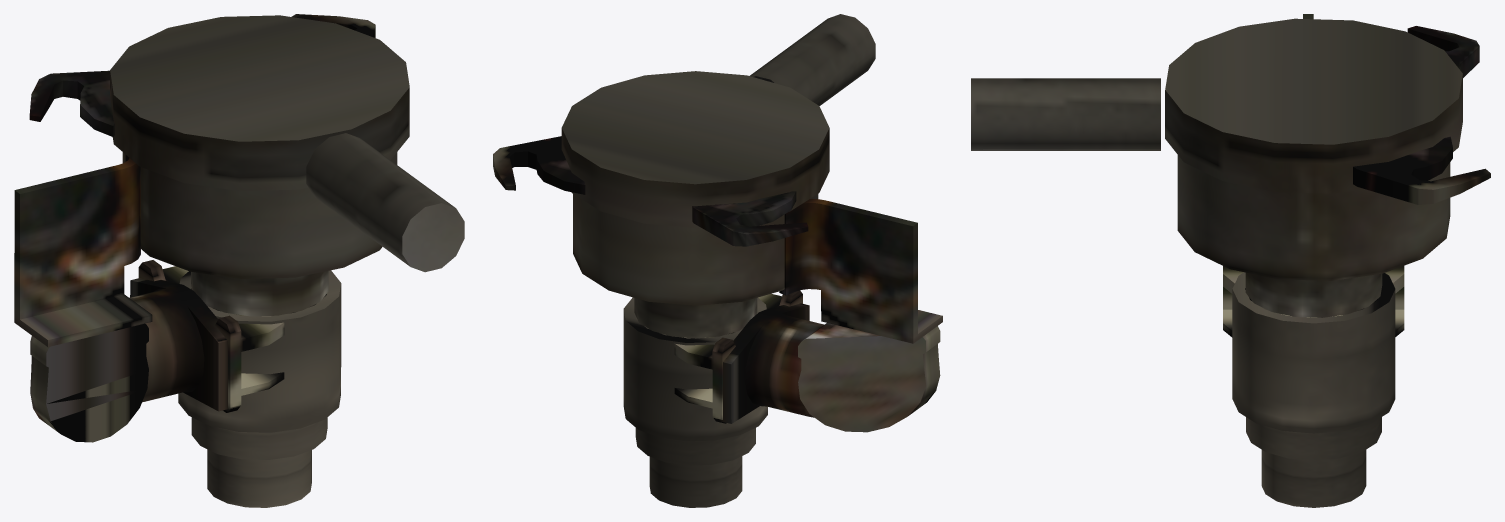
File: arm_04_fixed.dae
3 renders of one model, left to right at view 1: azimuth 30°, elevation 25°; view 2: azimuth 150°, elevation 25°; view 3: azimuth 270°, elevation 25°, orthographic. The views are drawn at different scales.
Visible parts, largest first — view 1: arm_04; view 2: arm_04; view 3: arm_04.
Boxes of the visible parts, x1,y1,x2,y2 form: arm_04: [14, 14, 464, 507]; arm_04: [493, 14, 942, 507]; arm_04: [971, 14, 1490, 507].
Size of the model in its own units: 0.3072 by 0.3365 by 0.2888.
Materials: 2 (2 with a texture image).
